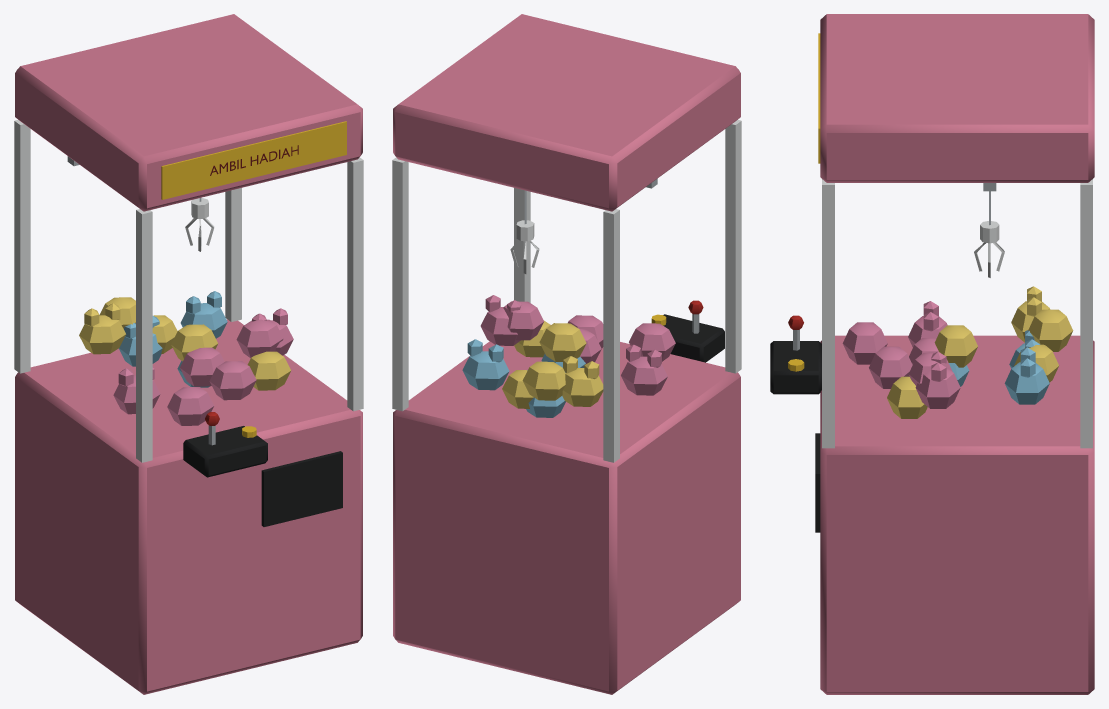
Rendered from claw_machine.glb.
The picture shows the model from 3 angles, left to right: view 1: azimuth 30°, elevation 25°; view 2: azimuth 150°, elevation 25°; view 3: azimuth 270°, elevation 25°; orthographic projection. The views are drawn at different scales.
Visible parts, largest first — view 1: Claw; view 2: Claw; view 3: Claw.
Boxes of the visible parts, x1=… form: Claw: x1=14, y1=14, x2=363, y2=694; Claw: x1=392, y1=14, x2=741, y2=694; Claw: x1=770, y1=14, x2=1094, y2=694.
Bounding box in the file's own units: 0.85 × 1.95 × 1.
